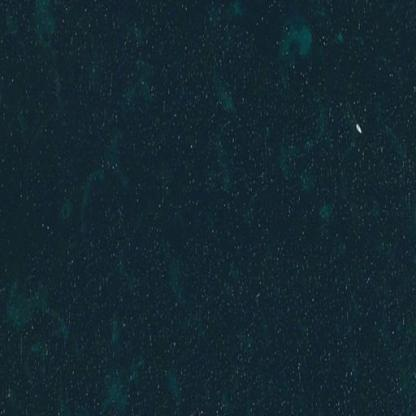ship: (353, 121, 362, 134)
